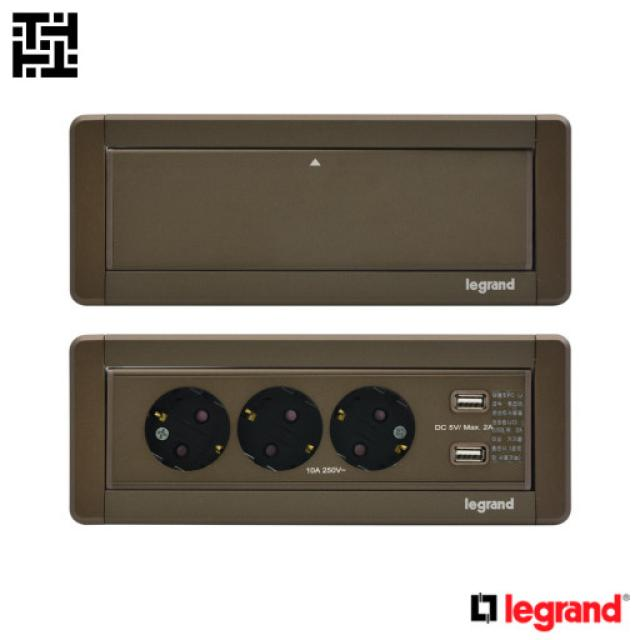typeb: (42, 323, 588, 540)
